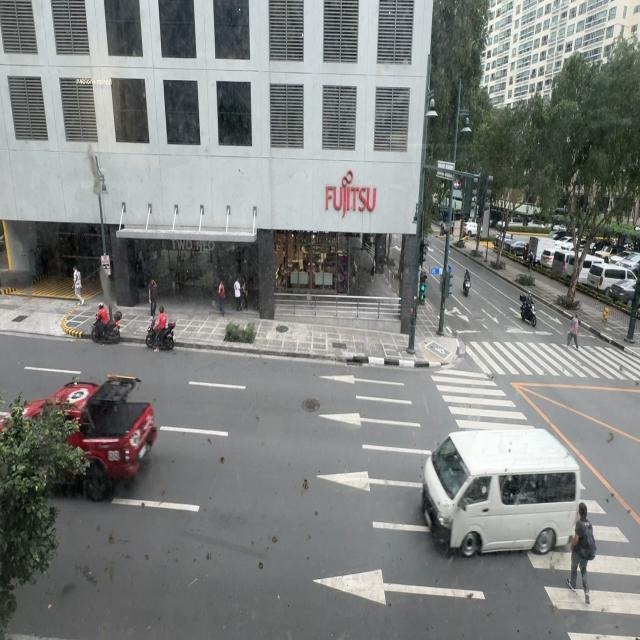crossing: (569, 497, 601, 606), (568, 502, 596, 605), (567, 311, 580, 350)
